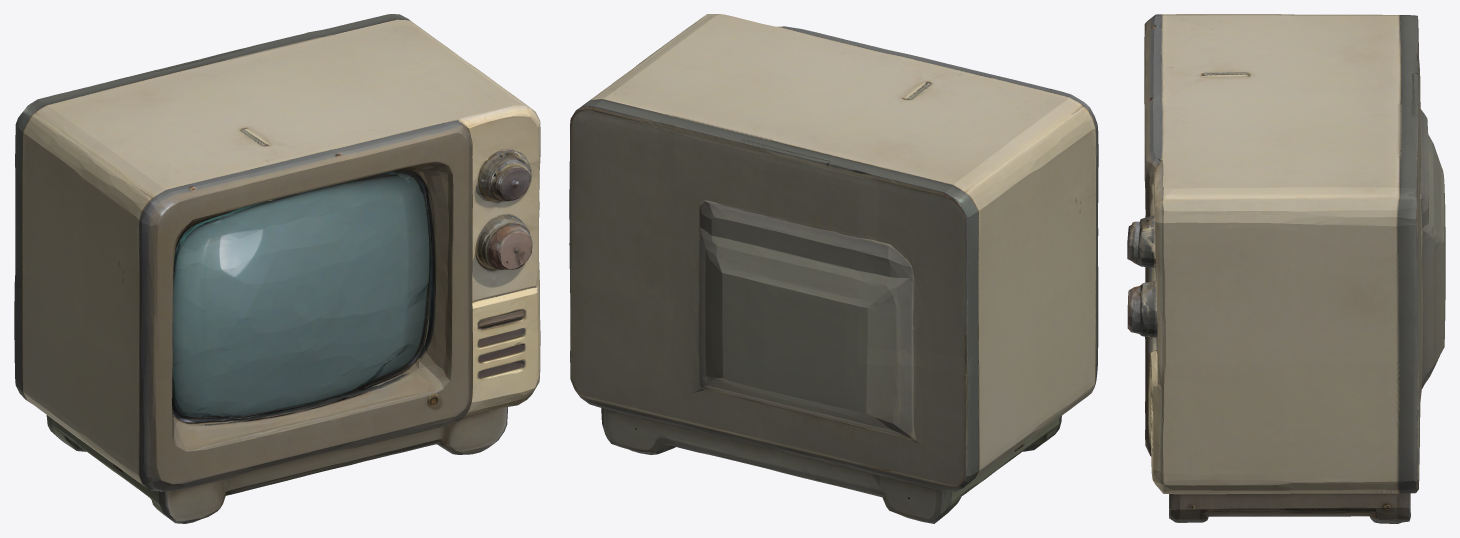
File: Vintage_Television_0618214226_texture.fbx
The picture shows the model from 3 angles, left to right: view 1: azimuth 30°, elevation 25°; view 2: azimuth 150°, elevation 25°; view 3: azimuth 270°, elevation 25°; orthographic projection.
Parts seen in each view (by area): view 1: temp; view 2: temp; view 3: temp.
Boxes of the visible parts, x1,y1,x2,y2 form: temp: (14, 14, 540, 523); temp: (569, 14, 1098, 523); temp: (1127, 14, 1445, 523).
Bounding box in the file's own units: 200 × 165 × 136.
Materials: 1 (1 with a texture image).
